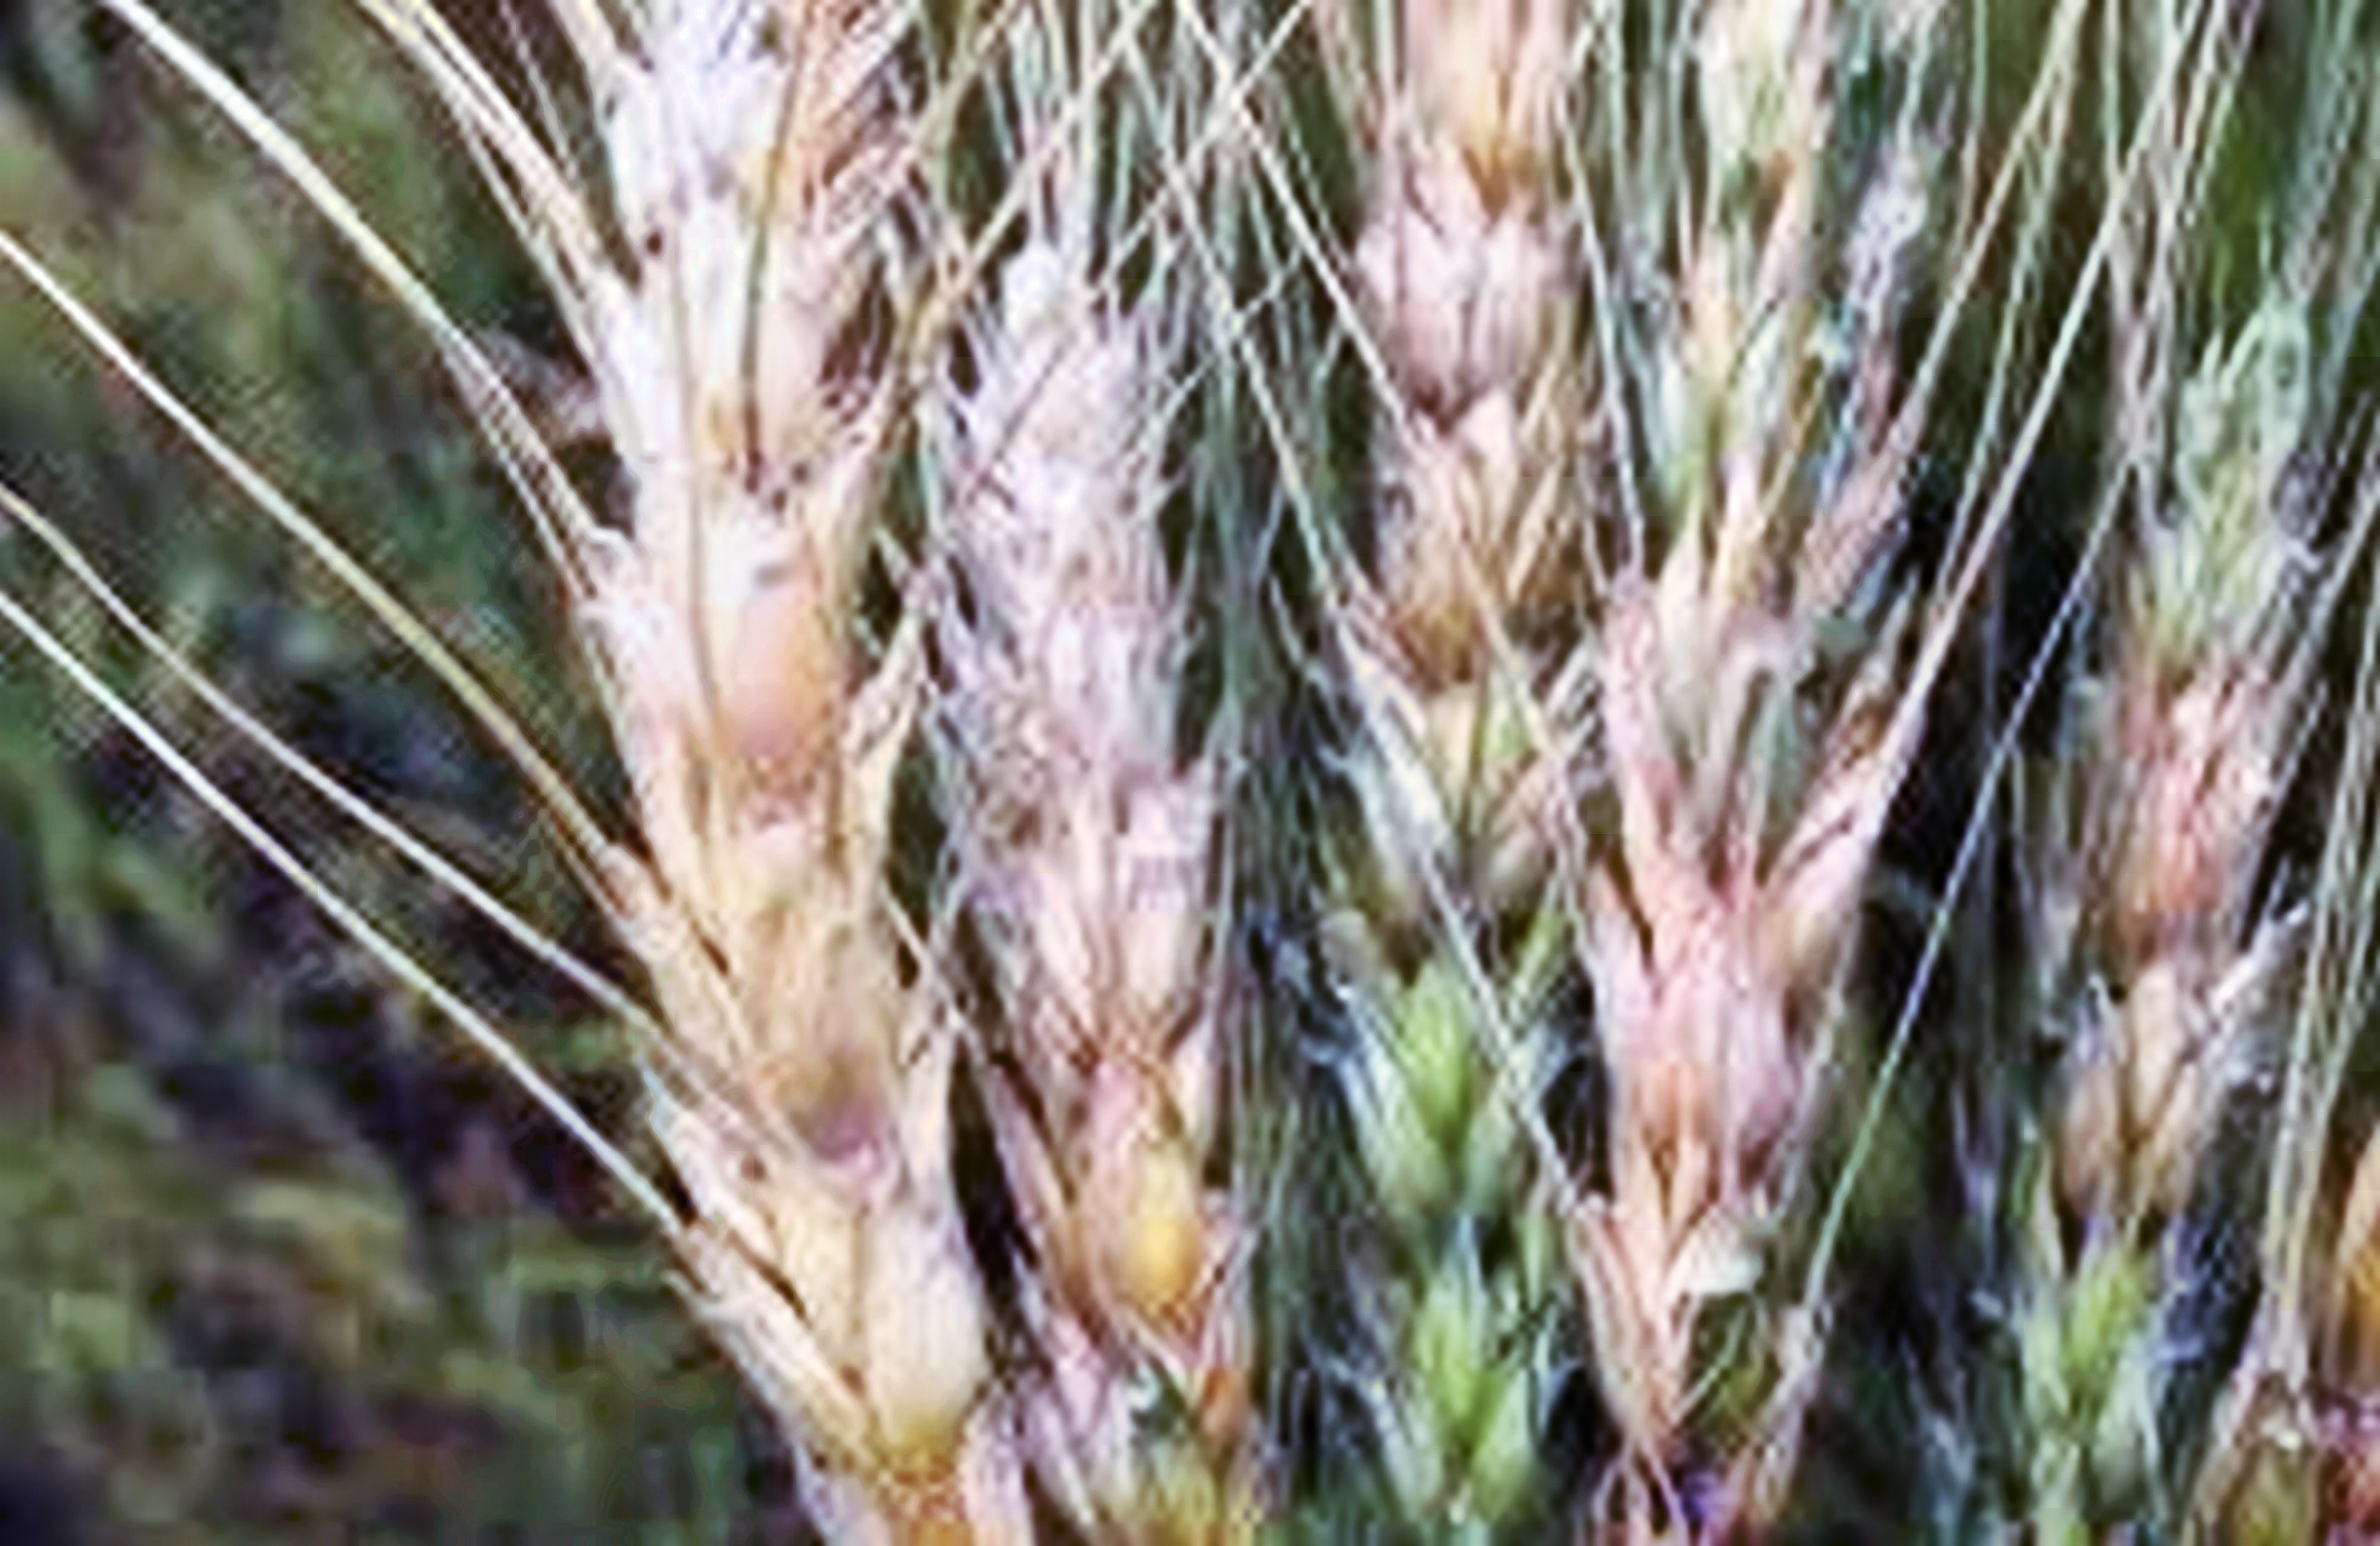Wheat scab: (1320, 57, 1608, 1546)
